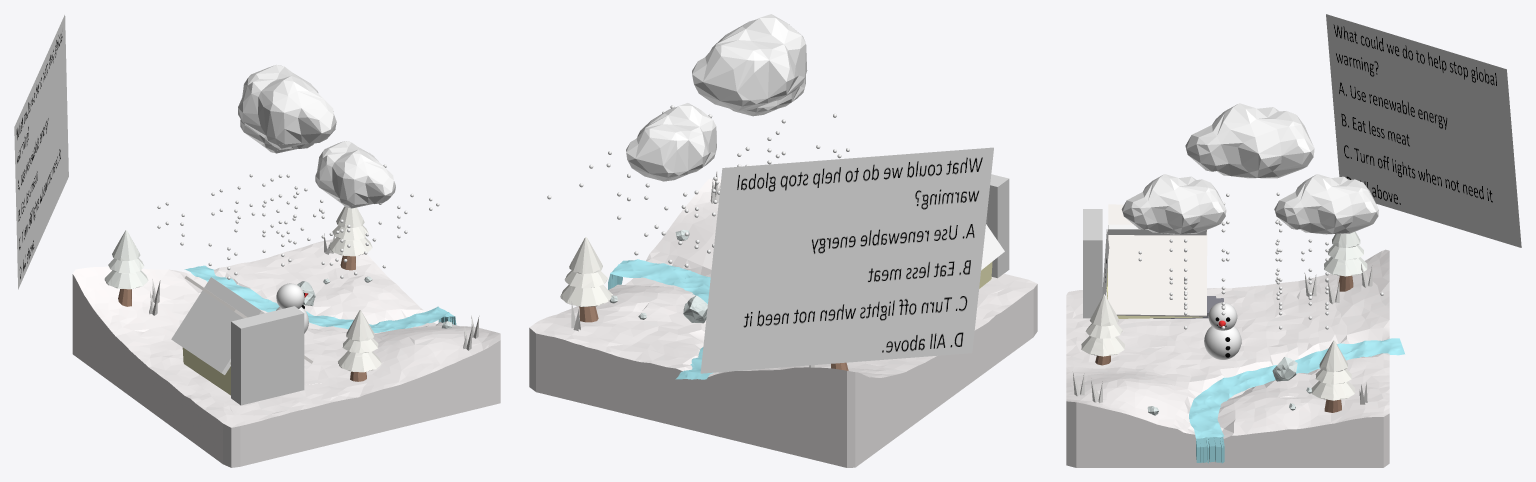
Rendered from snowQ6.glb.
The picture shows the model from 3 angles, left to right: view 1: azimuth 30°, elevation 25°; view 2: azimuth 150°, elevation 25°; view 3: azimuth 270°, elevation 25°; orthographic projection. The views are drawn at different scales.
Parts seen in each view (by area): view 1: terrain, pPlane2, Cube, cloud, house:pCube6, pPlatonic1, water, house:pCube4, pCylinder1, trees:pCylinder8, trees:pCylinder1, pSphere117 (+3 smaller); view 2: pPlane2, terrain, cloud, clouds:pPlatonic1, water, Cube, trees:pCylinder1, trees:pCylinder4, pPlatonic1, trees:pCylinder3, house:pCube6, stone:pPlatonic2; view 3: terrain, pPlane2, house:pCube5, cloud, pPlatonic1, clouds:pPlatonic1, water, Cube, pSphere116, pCylinder1, trees:pCylinder1, trees:pCylinder8 (+4 smaller).
Part boxes in pixels (bbox=[...]): terrain: bbox=[72, 239, 500, 467]; pPlane2: bbox=[14, 15, 68, 289]; Cube: bbox=[231, 306, 304, 405]; cloud: bbox=[238, 64, 336, 148]; house:pCube6: bbox=[171, 277, 264, 374]; pPlatonic1: bbox=[315, 141, 395, 208]; water: bbox=[184, 265, 456, 332]; house:pCube4: bbox=[182, 347, 230, 394]; pCylinder1: bbox=[338, 351, 381, 372]; trees:pCylinder8: bbox=[104, 270, 148, 289]; trees:pCylinder1: bbox=[328, 237, 372, 256]; pSphere117: bbox=[276, 283, 304, 308]; pPlane2: bbox=[700, 147, 993, 373]; terrain: bbox=[529, 178, 1037, 467]; cloud: bbox=[692, 14, 807, 110]; clouds:pPlatonic1: bbox=[626, 103, 716, 181]; water: bbox=[608, 259, 712, 379]; Cube: bbox=[987, 174, 1009, 278]; trees:pCylinder1: bbox=[560, 284, 612, 306]; trees:pCylinder4: bbox=[569, 237, 602, 274]; pPlatonic1: bbox=[730, 75, 805, 116]; trees:pCylinder3: bbox=[564, 270, 607, 288]; house:pCube6: bbox=[981, 224, 1004, 270]; stone:pPlatonic2: bbox=[683, 295, 707, 323]; terrain: bbox=[1066, 249, 1389, 467]; pPlane2: bbox=[1326, 14, 1521, 247]; house:pCube5: bbox=[1108, 204, 1207, 316]; cloud: bbox=[1185, 103, 1314, 178]; pPlatonic1: bbox=[1121, 174, 1226, 234]; clouds:pPlatonic1: bbox=[1274, 174, 1378, 234]; water: bbox=[1189, 338, 1404, 463]; Cube: bbox=[1083, 209, 1102, 318]; pSphere116: bbox=[1204, 326, 1241, 359]; pCylinder1: bbox=[1081, 336, 1124, 356]; trees:pCylinder1: bbox=[1311, 381, 1355, 400]; trees:pCylinder8: bbox=[1324, 257, 1367, 276].
Bounding box in the file's own units: 0.4613 × 0.3485 × 0.4738.
Materials: 28 (2 with a texture image).
